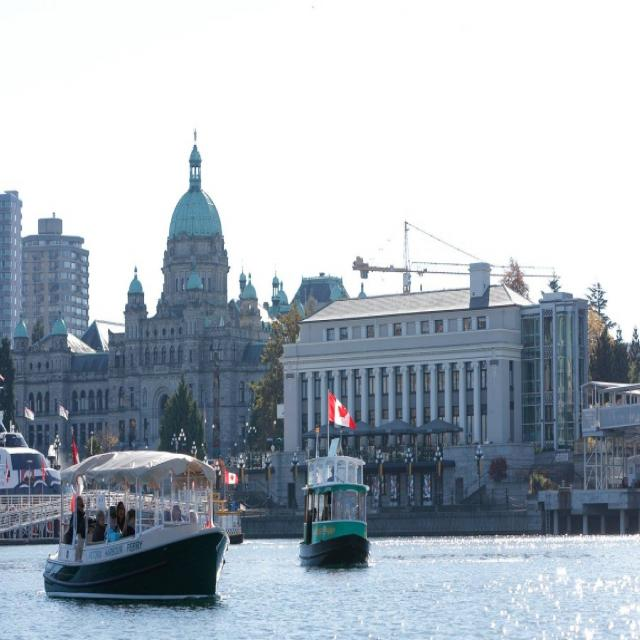boat: (43, 442, 228, 610), (298, 430, 374, 573)
